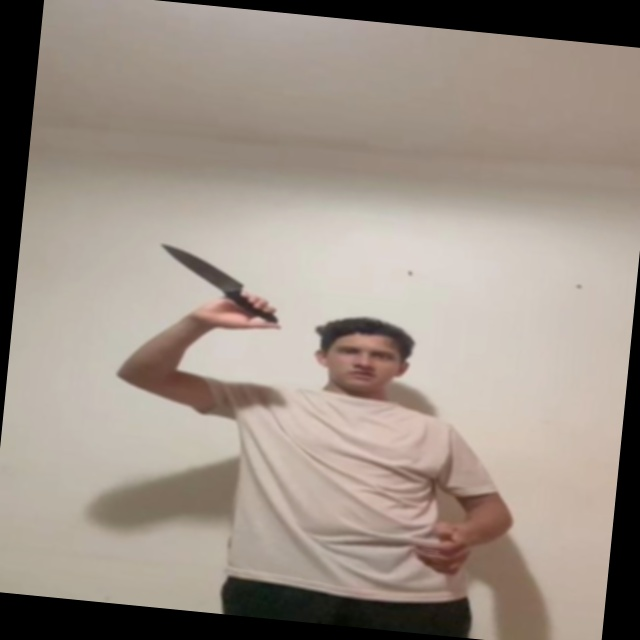Sharp-Object: (161, 241, 244, 289)
